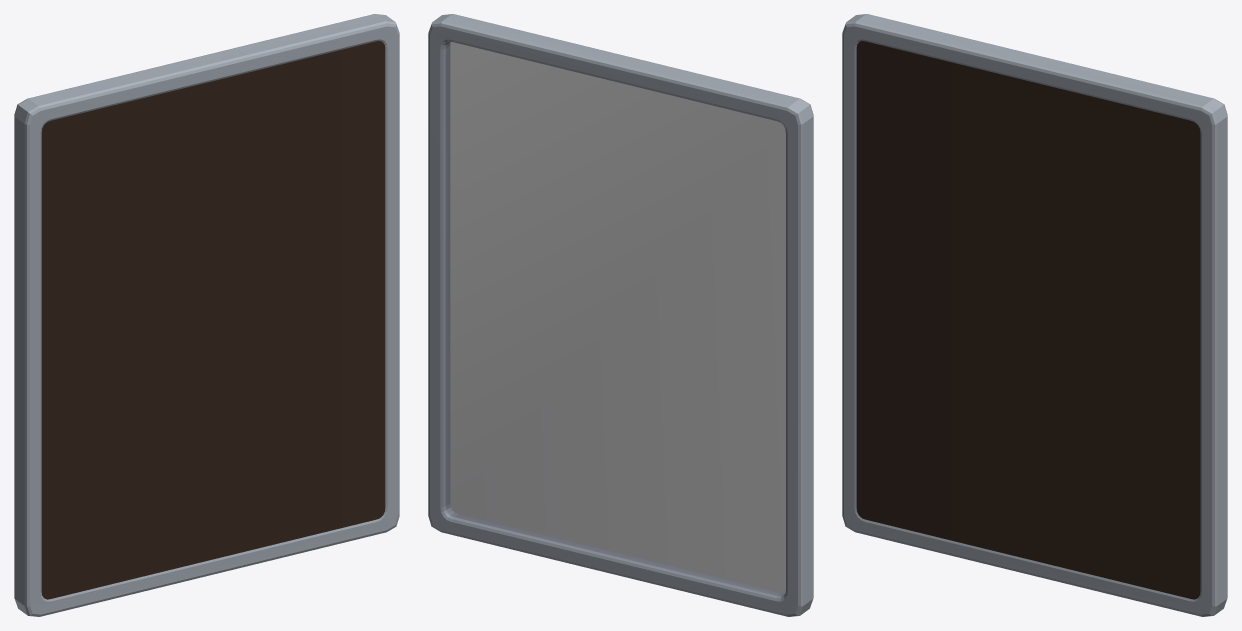
The model's file is frame_picture__033.glb.
3 views of the same model, side by side, from view 1: azimuth 30°, elevation 25°; view 2: azimuth 150°, elevation 25°; view 3: azimuth 330°, elevation 25° (orthographic).
Parts seen in each view (by area): view 1: prop_frame_picture; view 2: prop_frame_picture; view 3: prop_frame_picture.
Boxes of the visible parts, bbox=[...] form: prop_frame_picture: bbox=[14, 14, 399, 616]; prop_frame_picture: bbox=[428, 14, 813, 616]; prop_frame_picture: bbox=[842, 14, 1227, 616].
Bounding box in the file's own units: 0.545 × 0.71 × 0.035.
